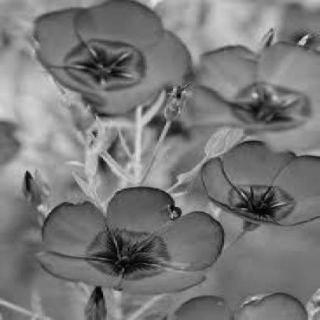other: (164, 290, 314, 316)
